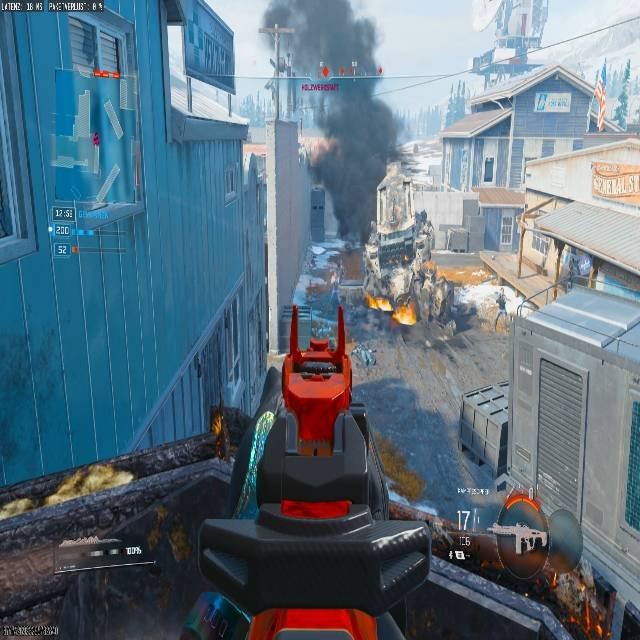head: (491, 500, 550, 573), (416, 209, 429, 224), (497, 288, 503, 296)
player: (452, 499, 581, 639), (493, 289, 509, 334)
